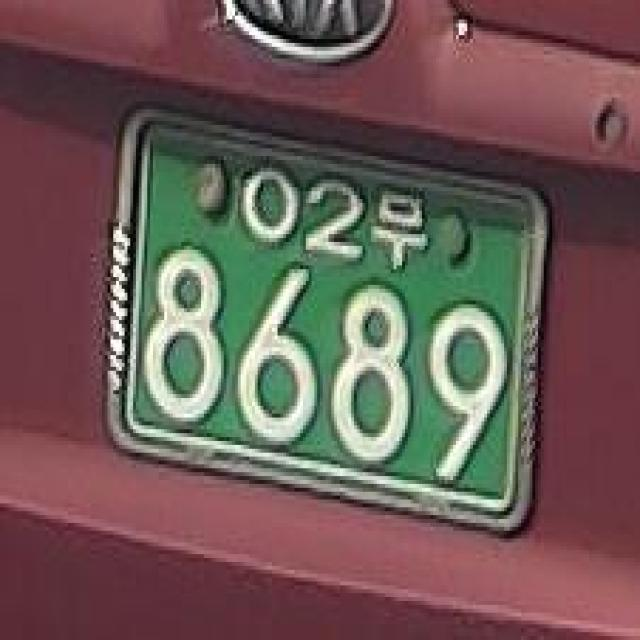illegal_plate: (98, 98, 562, 542)
